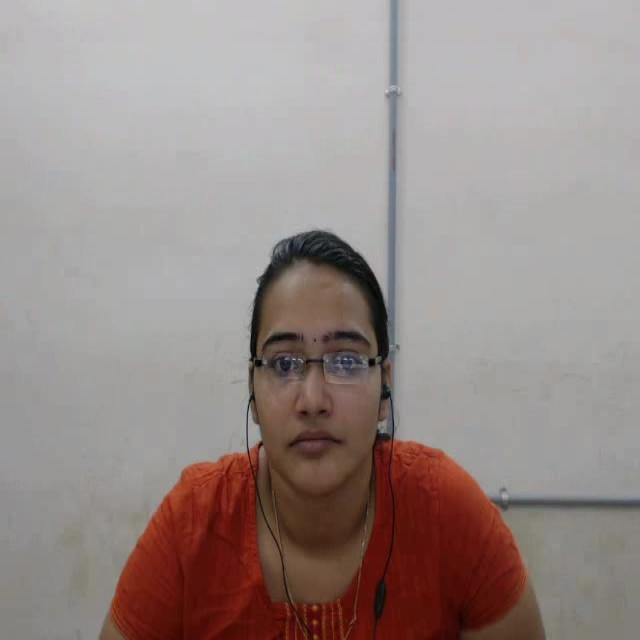Engaged: (199, 224, 425, 543)
